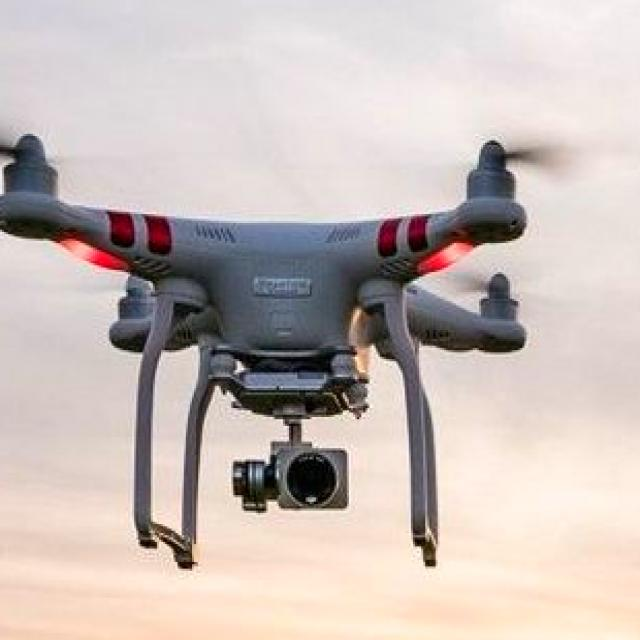drone: (0, 94, 607, 455)
